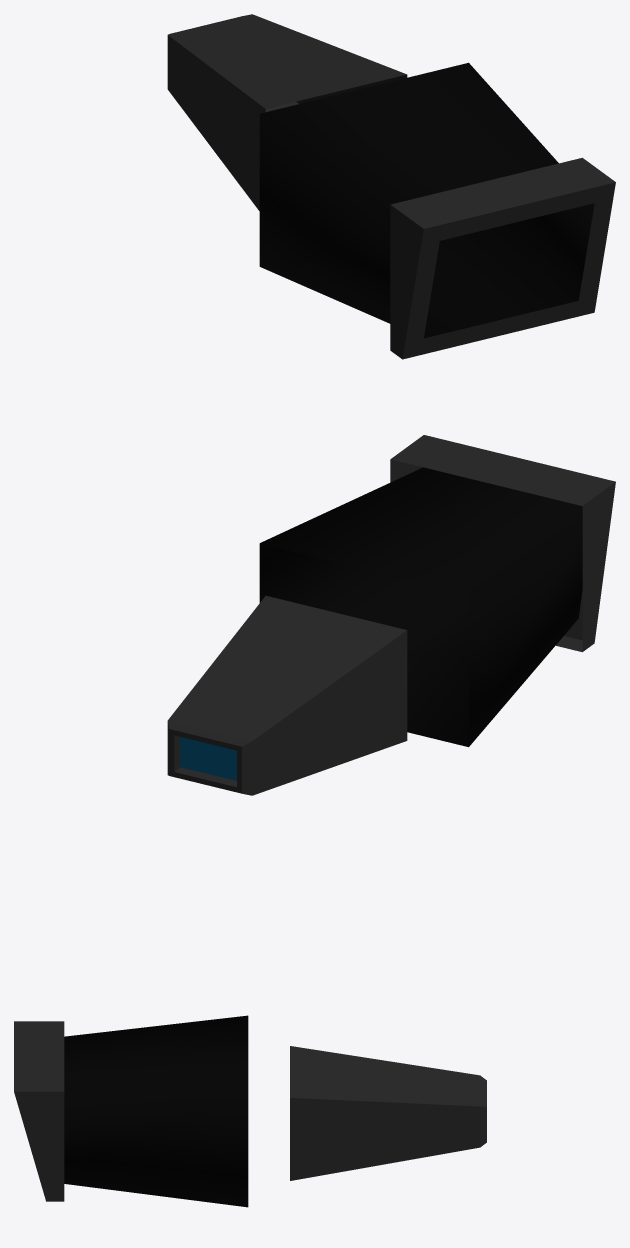
The model's file is TankSight_wedge_SQ_1x2.fbx.
The picture shows the model from 3 angles, top to bottom: view 1: azimuth 30°, elevation 25°; view 2: azimuth 150°, elevation 25°; view 3: azimuth 270°, elevation 25°; orthographic projection. The views are drawn at different scales.
Parts seen in each view (by area): view 1: Cube.001; view 2: Cube.001; view 3: Cube.001.
Part boxes in pixels (<box>): Cube.001: <box>167,14,615,359</box>; Cube.001: <box>167,435,615,795</box>; Cube.001: <box>14,1015,486,1207</box>.
Bounding box in the file's own units: 1 × 3.27 × 1.
